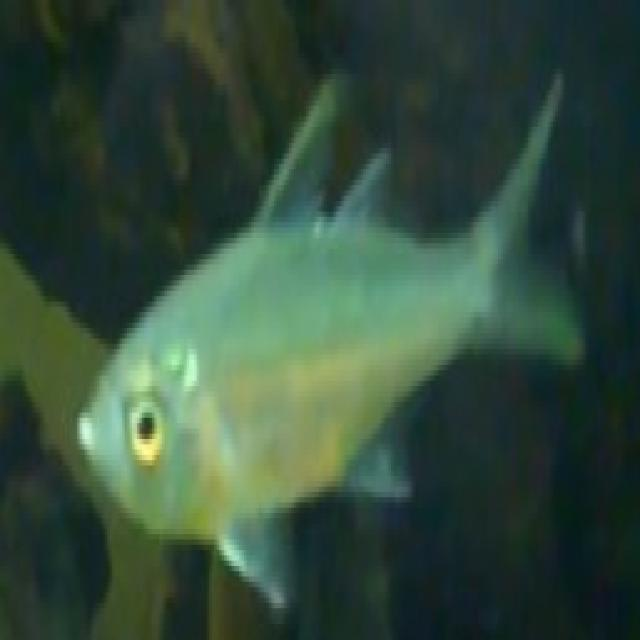Glass-Perchlet: (49, 56, 608, 594)
